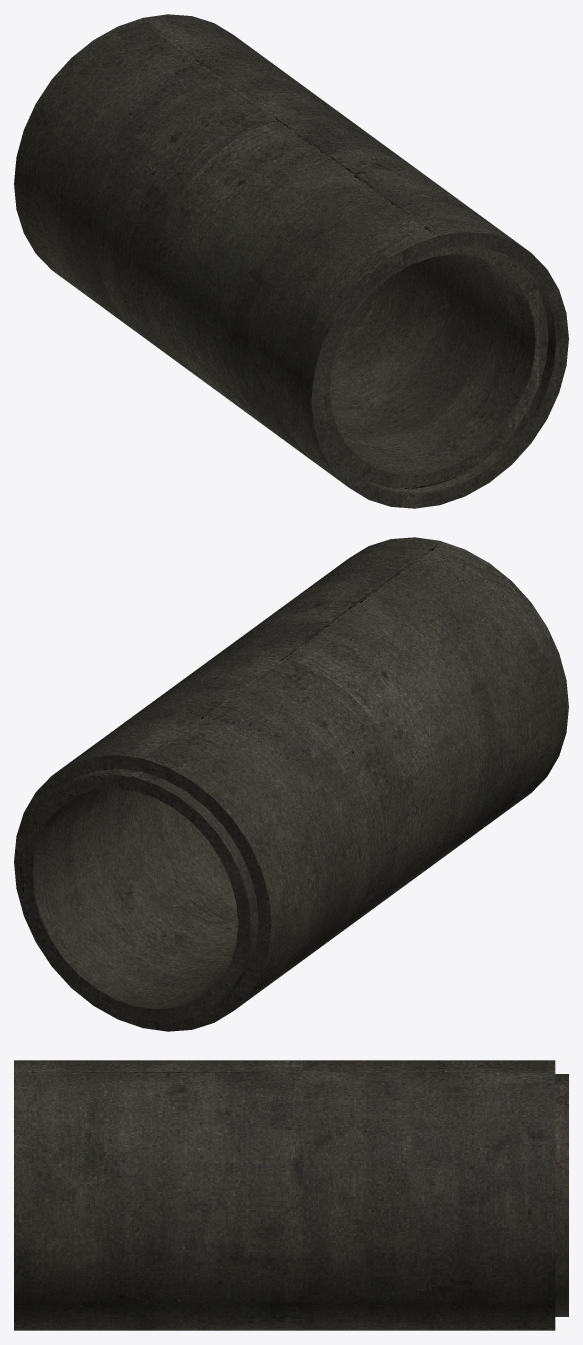
Rendered from concrete_pipe_hm_1_middle.glb.
The picture shows the model from 3 angles, top to bottom: view 1: azimuth 30°, elevation 25°; view 2: azimuth 150°, elevation 25°; view 3: azimuth 270°, elevation 25°; orthographic projection. The views are drawn at different scales.
Parts seen in each view (by area): view 1: concrete_pipe_hm_1_middle; view 2: concrete_pipe_hm_1_middle; view 3: concrete_pipe_hm_1_middle.
Boxes of the visible parts, x1,y1,x2,y2 form: concrete_pipe_hm_1_middle: [14, 14, 568, 508]; concrete_pipe_hm_1_middle: [14, 537, 568, 1031]; concrete_pipe_hm_1_middle: [14, 1060, 568, 1330].
Bounding box in the file's own units: 2 × 2 × 4.1.
1 material, 1 textured.
